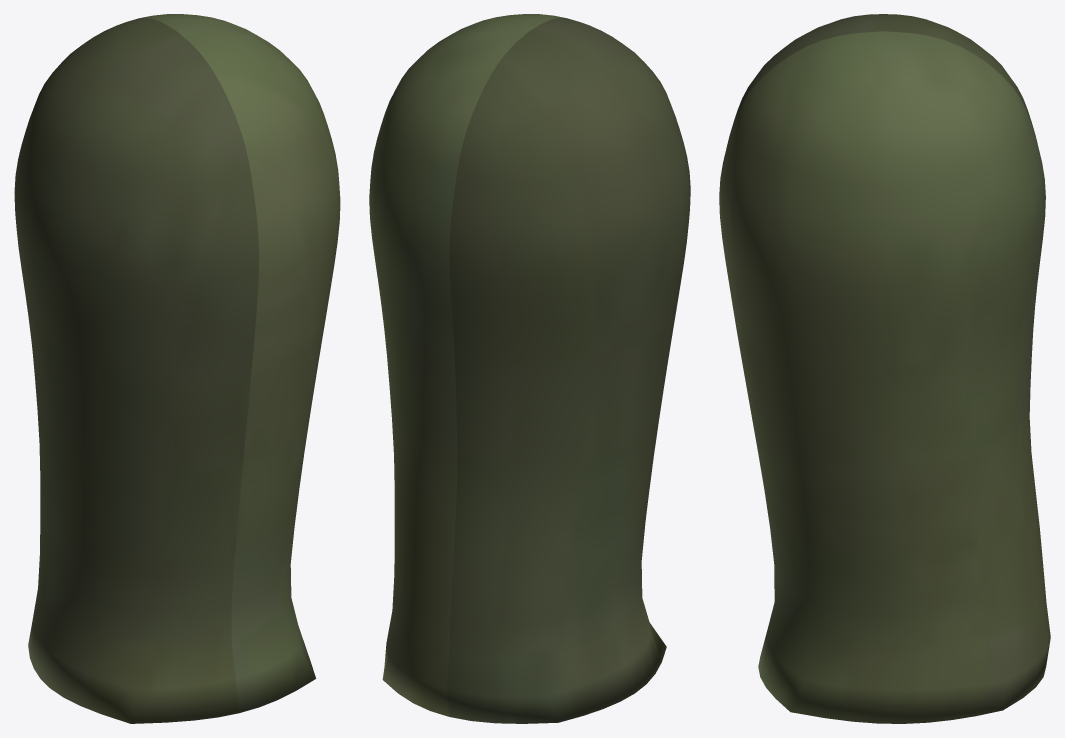
The model's file is GoblinArm.fbx.
3 views of the same model, side by side, from view 1: azimuth 30°, elevation 25°; view 2: azimuth 150°, elevation 25°; view 3: azimuth 270°, elevation 25° (orthographic).
Parts seen in each view (by area): view 1: Goblin.001; view 2: Goblin.001; view 3: Goblin.001.
Boxes of the visible parts, x1=… form: Goblin.001: x1=14, y1=14, x2=340, y2=723; Goblin.001: x1=369, y1=14, x2=690, y2=723; Goblin.001: x1=719, y1=14, x2=1050, y2=723.
Bounding box in the file's own units: 12.2 × 26.19 × 12.38.
